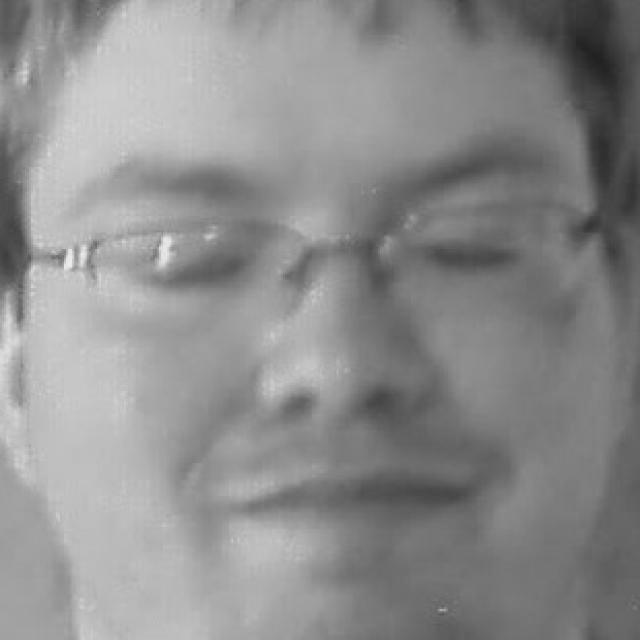real: (28, 10, 617, 622), (108, 166, 574, 310)
